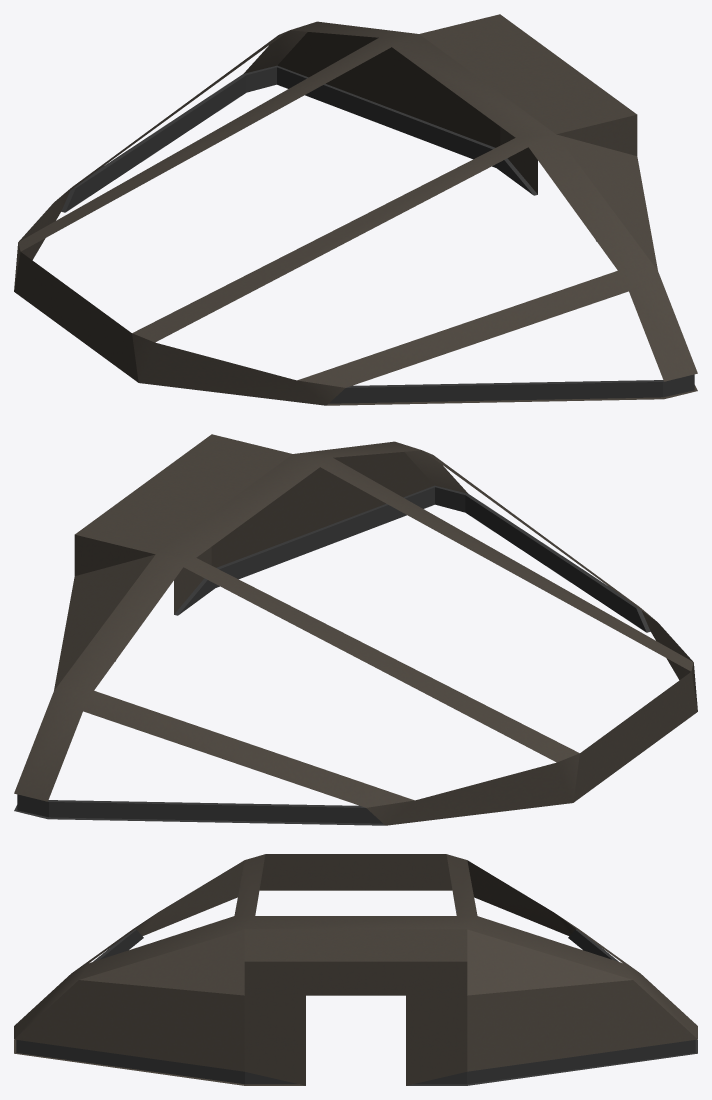
Rendered from StarDeck_Walls.fbx.
The picture shows the model from 3 angles, top to bottom: view 1: azimuth 30°, elevation 25°; view 2: azimuth 150°, elevation 25°; view 3: azimuth 270°, elevation 25°; orthographic projection. The views are drawn at different scales.
Visible parts, largest first — view 1: StarDeck_Walls; view 2: StarDeck_Walls; view 3: StarDeck_Walls.
Boxes of the visible parts, x1,y1,x2,y2 form: StarDeck_Walls: (14,14,697,405); StarDeck_Walls: (14,434,697,825); StarDeck_Walls: (14,854,697,1085).
Size of the model in its own units: 3709 by 1100 by 5489.
